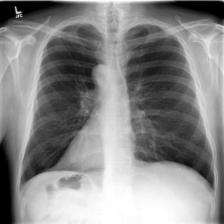normal: (14, 20, 218, 194)
